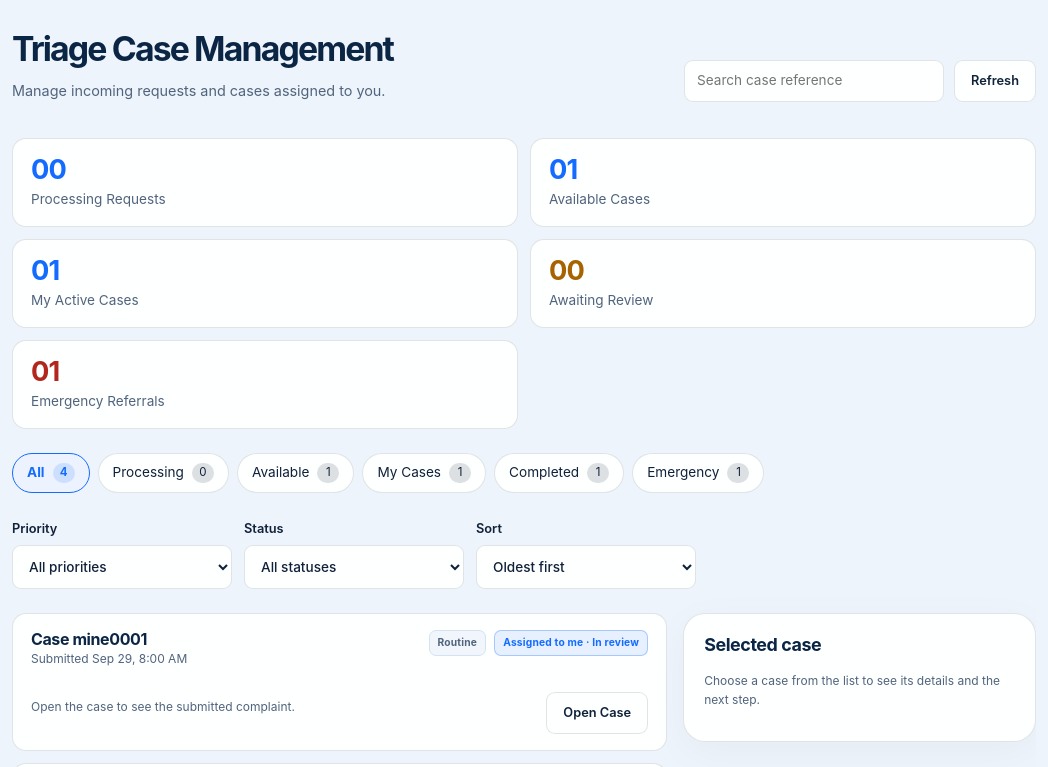
Test: CasesPage › opens an assigned case with its complaint and a link to the Approval Desk
This screenshot has width=1048, height=767.
What coordinates should you click on to do the following:
click the tab "My Cases 1"
I would click on:
 (424, 473)
Its box is [362,453,486,493].
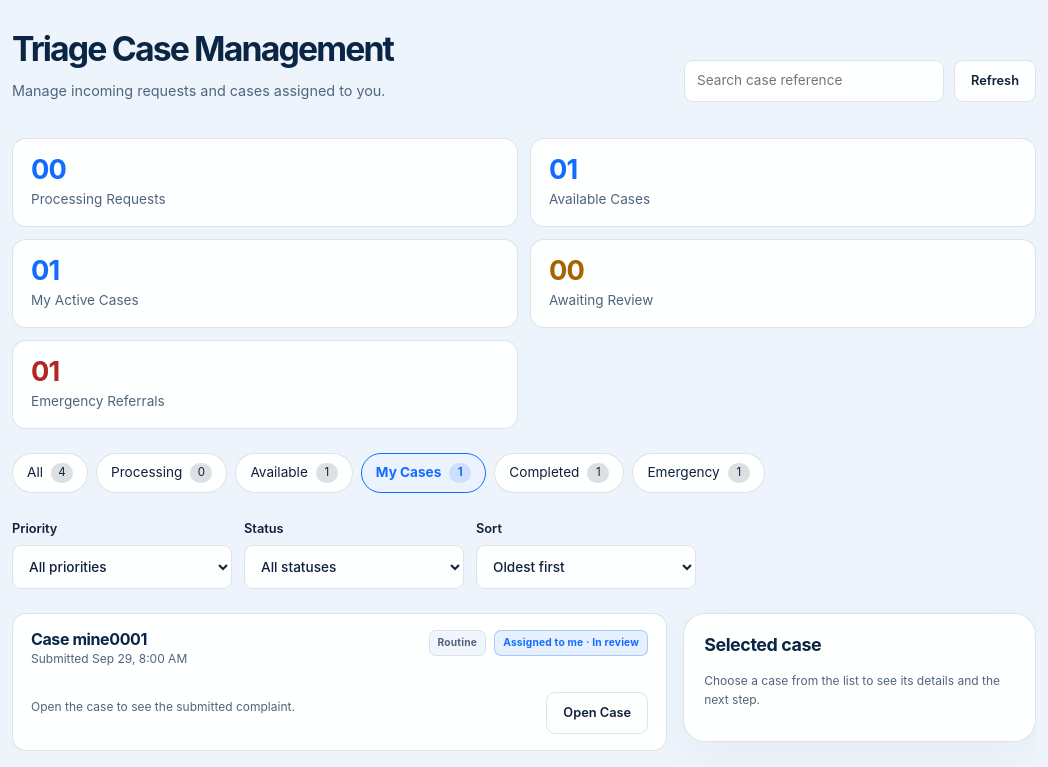
What coordinates should you click on to do the following:
click the button with aria-label "Open case mine0001"
I would click on:
 (597, 713)
Its box is [546,692,648,734].
(page scrolled)
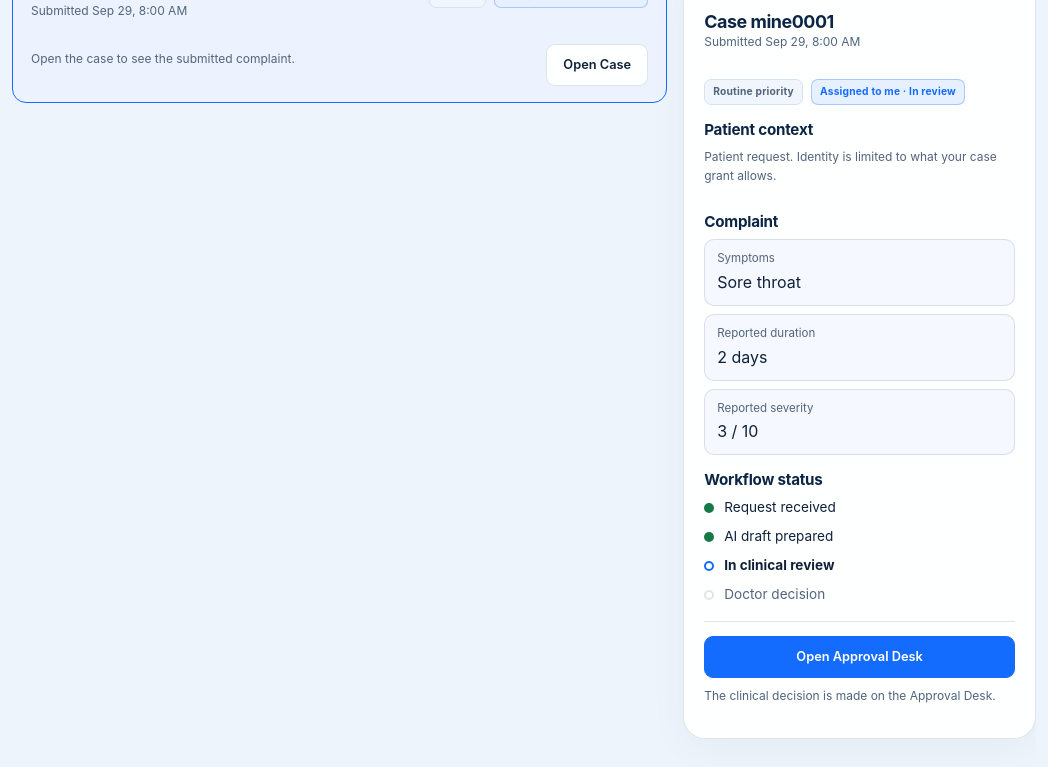
Result: the text "Sore throat" is shown at [717,272,801,292]
Result: the text "2 days" is shown at [717,347,768,367]
